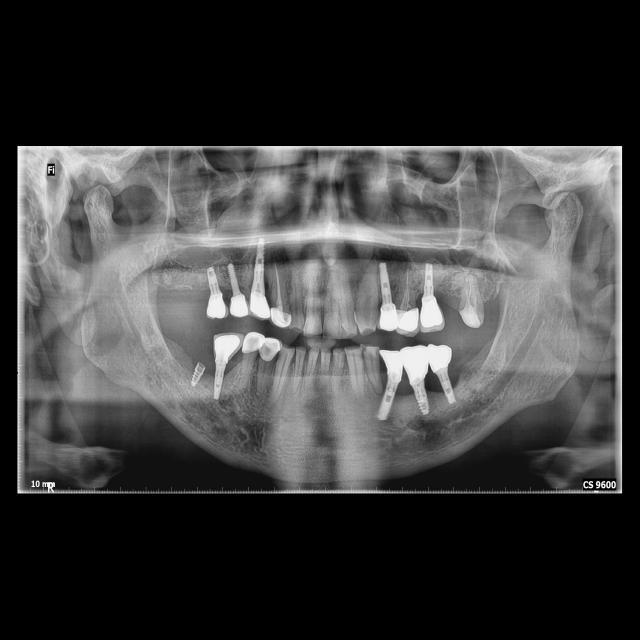implant: (401, 348, 433, 417), (210, 330, 238, 403), (250, 238, 272, 324), (429, 343, 460, 404), (379, 347, 403, 424), (421, 259, 443, 332), (225, 258, 249, 322), (204, 257, 226, 322), (378, 259, 396, 334), (192, 358, 207, 389)
kanal-tedavisi: (272, 259, 288, 309), (459, 277, 482, 306), (398, 270, 415, 309)
kaplama: (395, 306, 420, 334), (270, 306, 292, 331), (242, 331, 262, 354), (264, 338, 282, 362)
